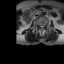CCS_normal: (41, 24, 42, 31)
LFS_stenosis: (43, 23, 45, 28)
LLS_normal: (42, 24, 43, 29)
RFS_severe_stenosis: (38, 23, 39, 28)
RLS_stenosis: (39, 24, 41, 28)
